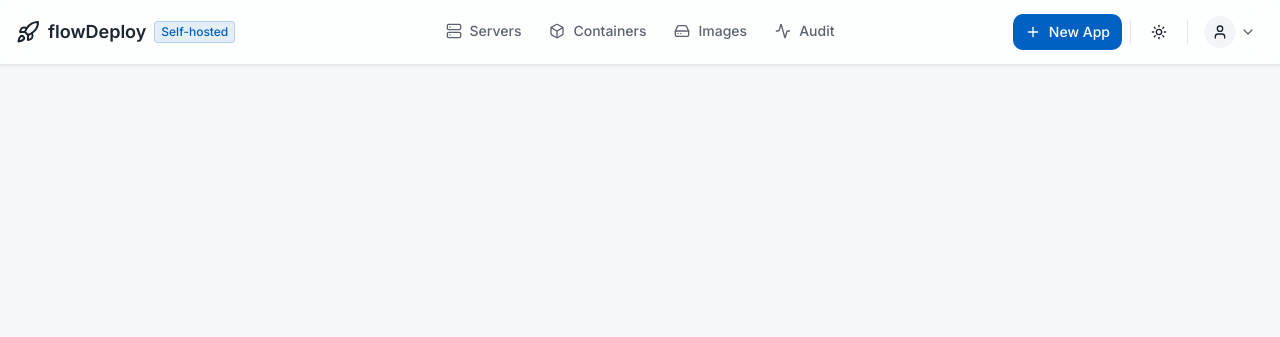
Test case: Header › keeps the management shortcuts in the account menu
Click the button named "account menu": {"x": 1230, "y": 32} [1196,14,1264,50]
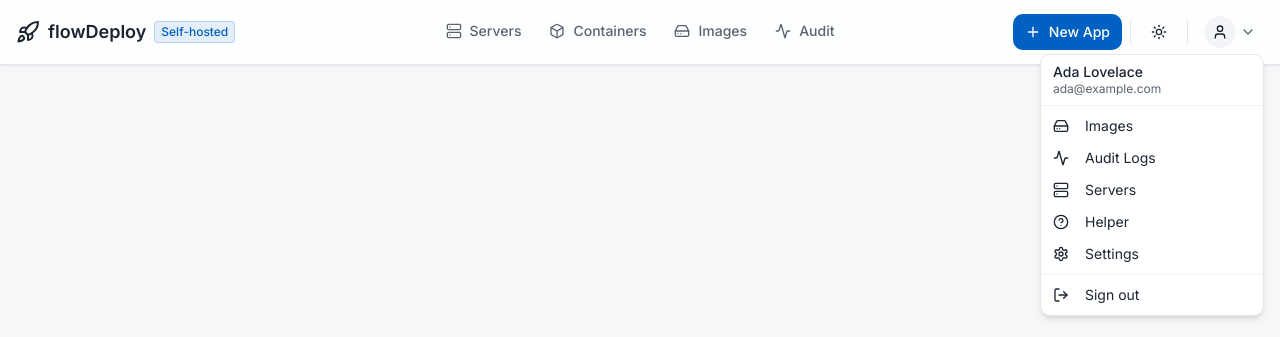
Expected: the menu item "Images" is shown, [1053,117,1133,134]
Expected: the menu item "Audit Logs" is shown, [1053,149,1156,166]
Expected: the menu item "Servers" is shown, [1053,181,1136,198]
